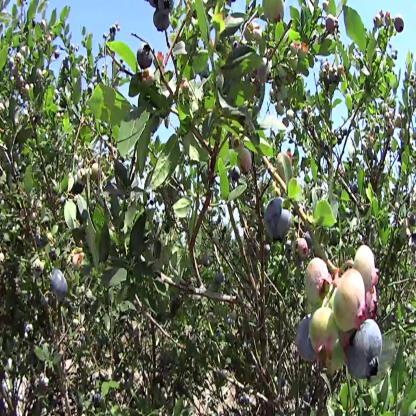intermediate: (325, 14, 339, 34), (394, 15, 404, 37)
mature: (353, 329, 382, 377), (266, 200, 290, 238), (298, 319, 316, 364), (136, 42, 155, 74), (51, 267, 68, 300), (152, 9, 172, 33), (303, 232, 317, 252), (213, 268, 226, 284)
young: (338, 273, 364, 325), (355, 245, 379, 301), (313, 310, 339, 353), (305, 261, 329, 299), (260, 65, 271, 83)
